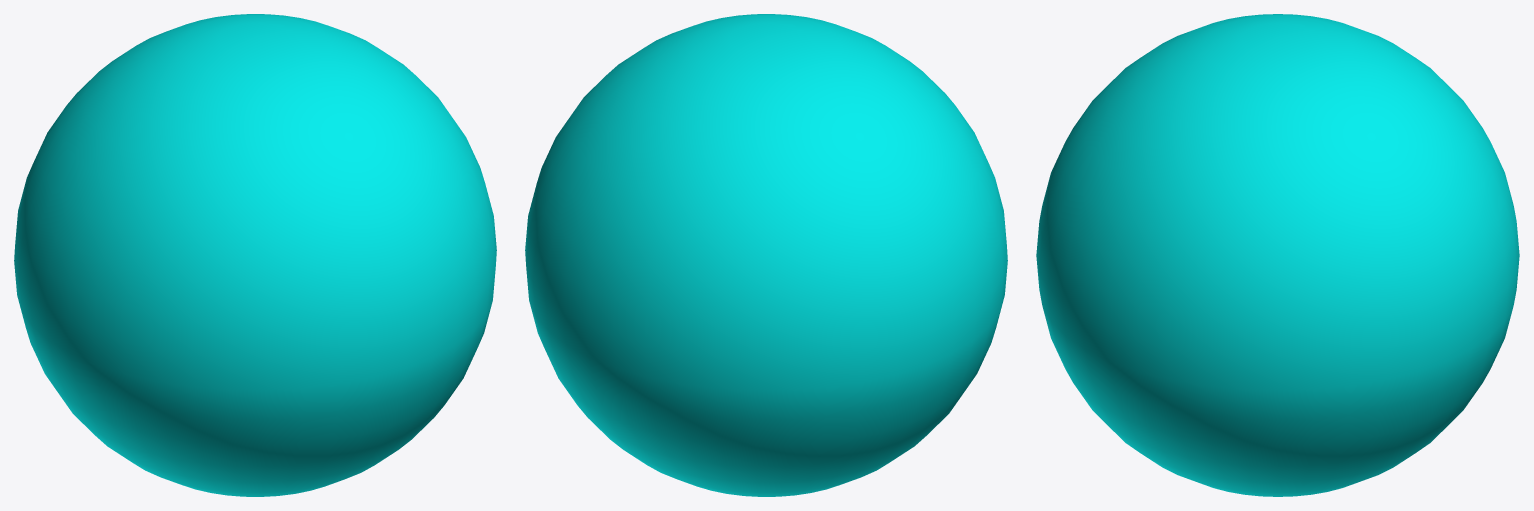
Rendered from Marble_Type02_001.fbx.
The picture shows the model from 3 angles, left to right: view 1: azimuth 30°, elevation 25°; view 2: azimuth 150°, elevation 25°; view 3: azimuth 270°, elevation 25°; orthographic projection.
Visible parts, largest first — view 1: Marble_Type02_EXT_001; view 2: Marble_Type02_EXT_001; view 3: Marble_Type02_EXT_001.
Boxes of the visible parts, x1,y1,x2,y2 form: Marble_Type02_EXT_001: (14, 14, 496, 496); Marble_Type02_EXT_001: (525, 14, 1007, 496); Marble_Type02_EXT_001: (1036, 14, 1519, 496).
Size of the model in its own units: 100 by 100 by 100.
